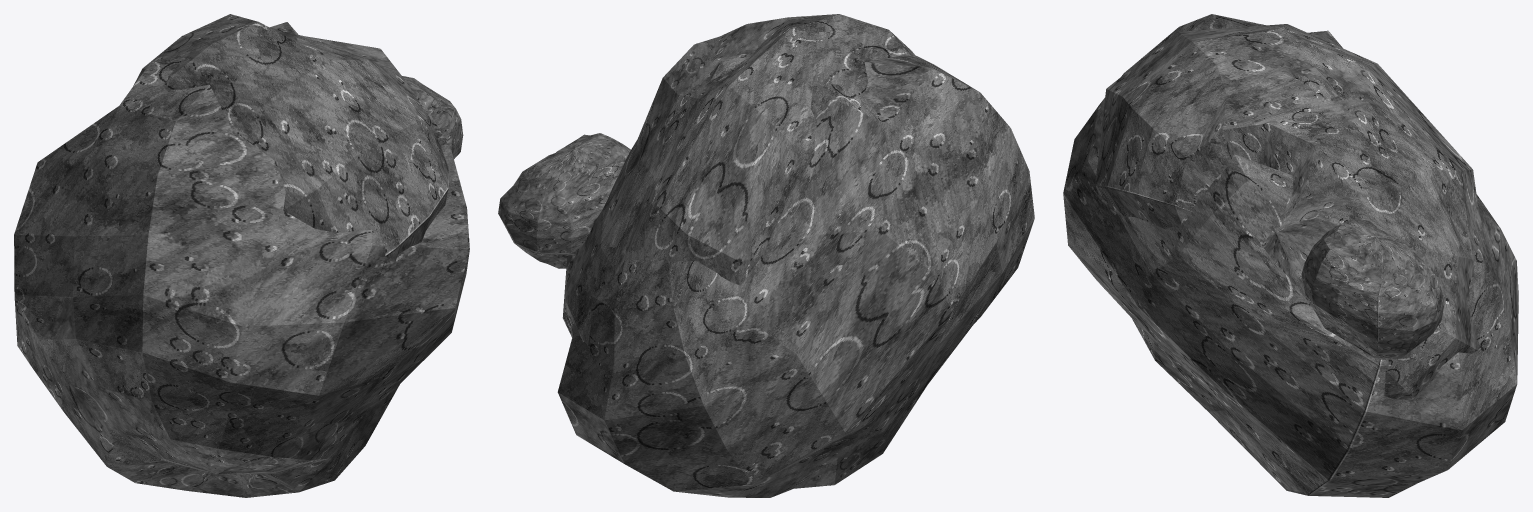
File: asteroid.obj
3 renders of one model, left to right at view 1: azimuth 30°, elevation 25°; view 2: azimuth 150°, elevation 25°; view 3: azimuth 270°, elevation 25°, orthographic. The views are drawn at different scales.
Visible parts, largest first — view 1: asteroid_group; view 2: asteroid_group; view 3: asteroid_group.
Boxes of the visible parts, bbox=[...] form: asteroid_group: bbox=[14, 14, 469, 497]; asteroid_group: bbox=[498, 14, 1034, 497]; asteroid_group: bbox=[1063, 14, 1518, 497].
Bounding box in the file's own units: 3.65 × 3.74 × 3.46.
